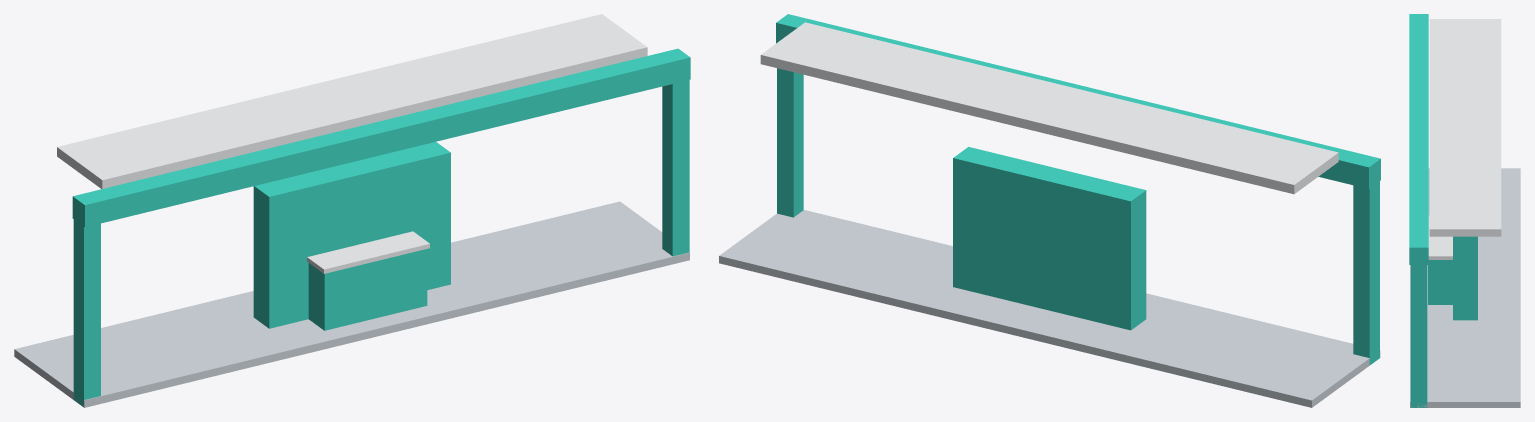
3 views of the same model, side by side, from view 1: azimuth 30°, elevation 25°; view 2: azimuth 150°, elevation 25°; view 3: azimuth 270°, elevation 25° (orthographic). The views are drawn at different scales.
Visible parts, largest first — view 1: Exhibition Booth Concept; view 2: Exhibition Booth Concept; view 3: Exhibition Booth Concept.
Boxes of the visible parts, bbox=[...] form: Exhibition Booth Concept: bbox=[14, 14, 690, 407]; Exhibition Booth Concept: bbox=[719, 14, 1380, 407]; Exhibition Booth Concept: bbox=[1409, 14, 1520, 407].
Bounding box in the file's own units: 10 × 3.34 × 2.01.
